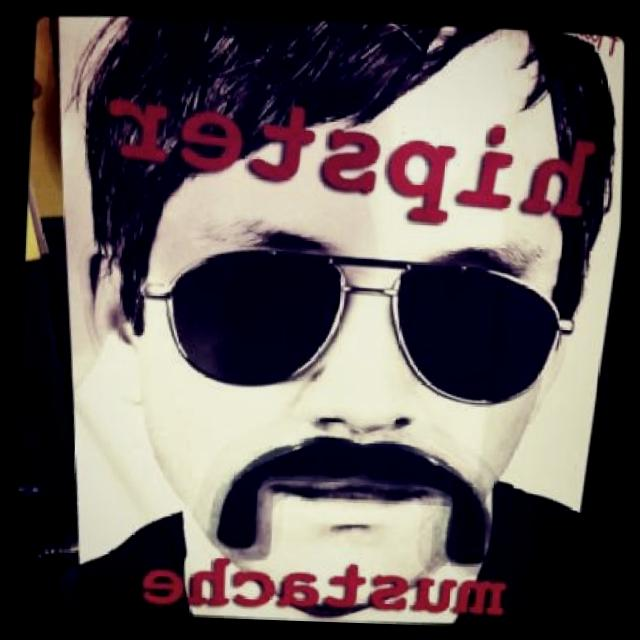Person: (43, 6, 622, 624)
